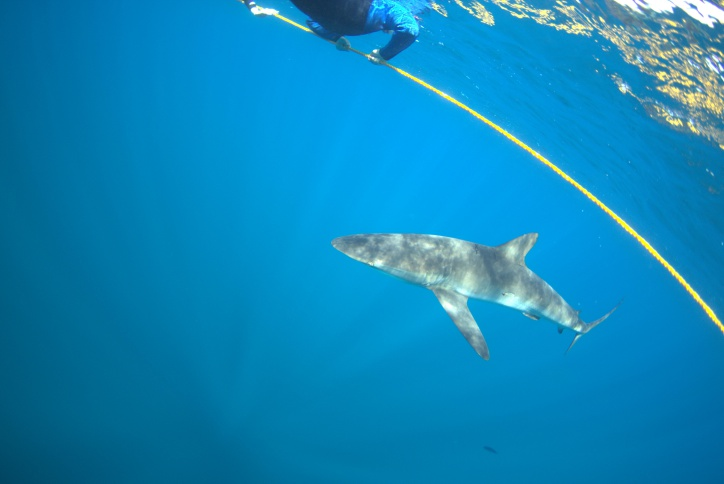Sedoso: (319, 228, 635, 373)
